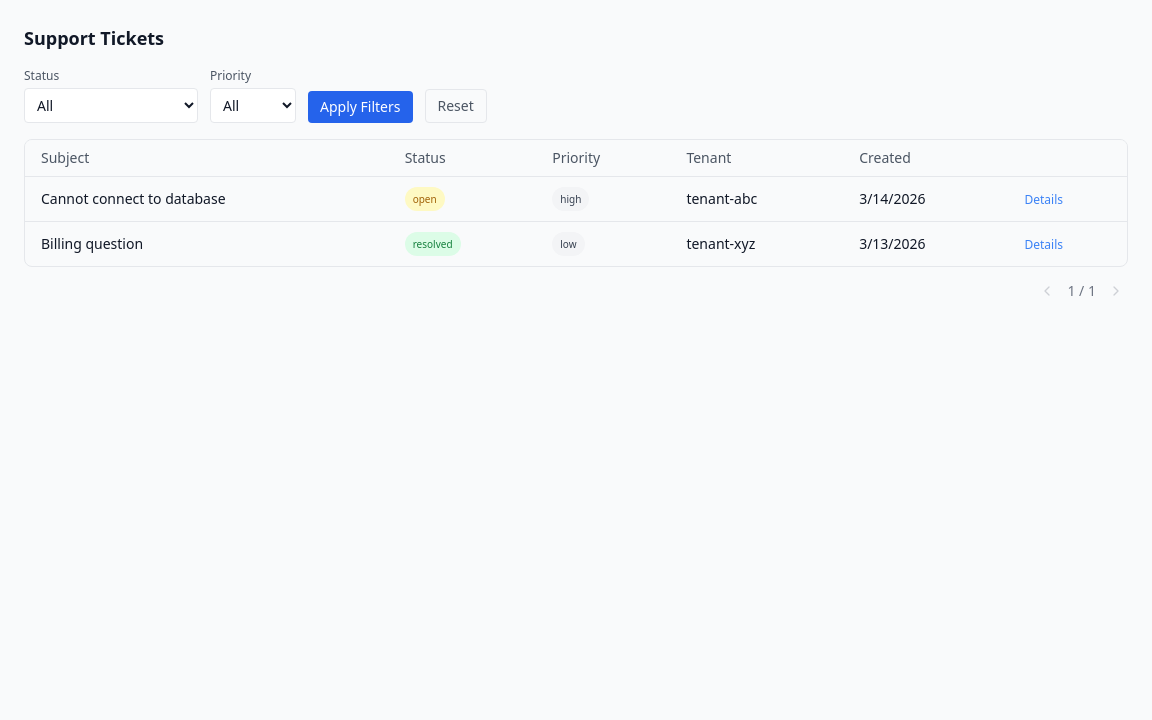
Test: SupportTickets › expand-to-detail shows message thread
Expected: the text "Cannot connect to database" is shown, [25,176,389,222]
Click the button "Details" in the row of "Cannot connect to database" at (1044, 200), box [1024,192,1063,208]
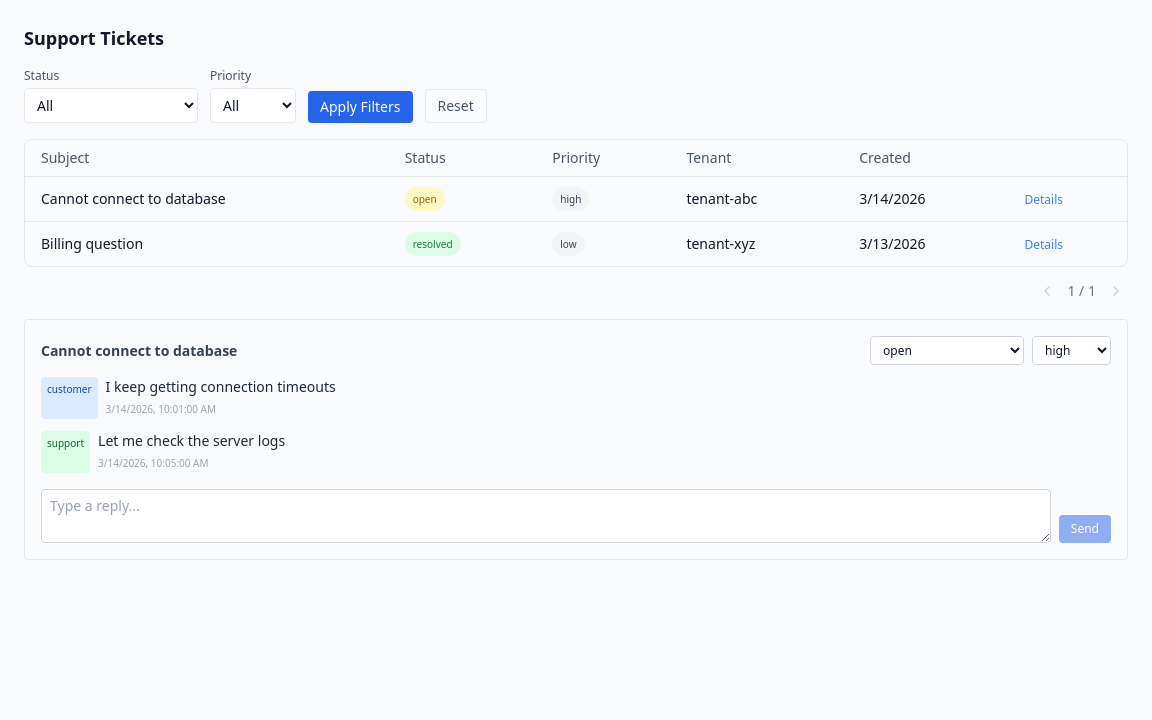
Expected: the text "I keep getting connection timeouts" is shown, [106,377,336,396]
Expected: the text "Let me check the server logs" is shown, [98,431,285,450]
